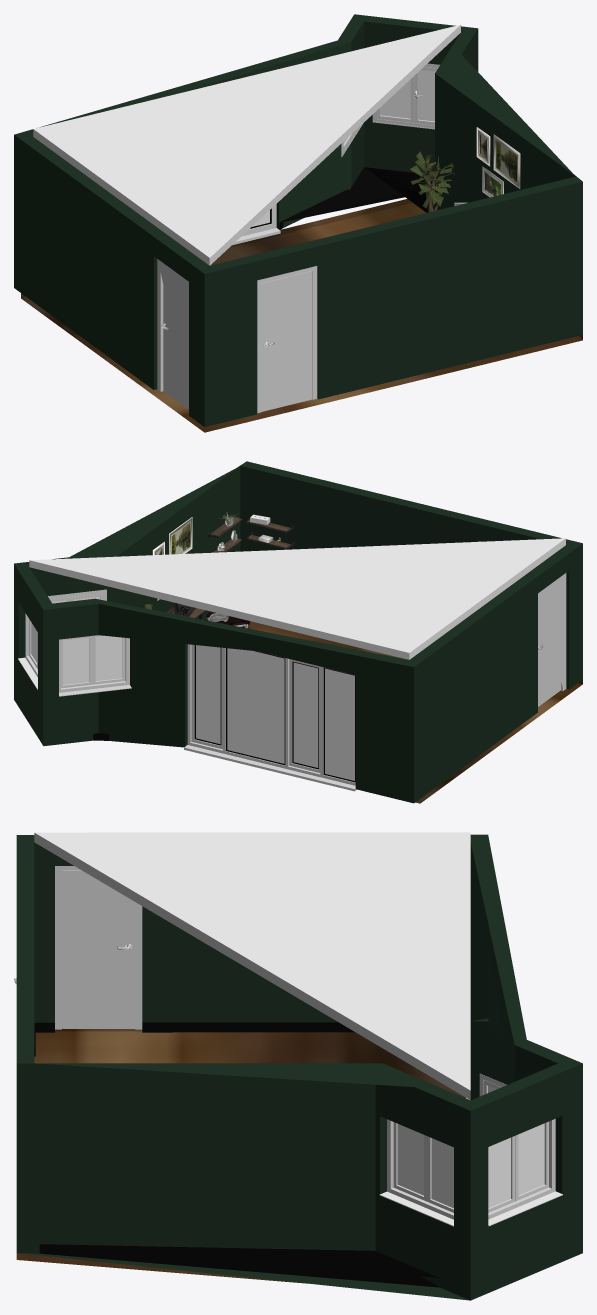
The model's file is TobisRealtimeRoomCam.gltf.
The picture shows the model from 3 angles, top to bottom: view 1: azimuth 30°, elevation 25°; view 2: azimuth 150°, elevation 25°; view 3: azimuth 270°, elevation 25°; orthographic projection. The views are drawn at different scales.
Parts seen in each view (by area): view 1: Room.002; view 2: Room.002; view 3: Room.002.
Part boxes in pixels (box(x1,y1,x2,y2)): Room.002: box(14, 14, 582, 432); Room.002: box(14, 461, 582, 803); Room.002: box(14, 832, 582, 1300).
Size of the model in its own units: 7.49 by 2.61 by 6.52.
Materials: 110 (22 with a texture image).
